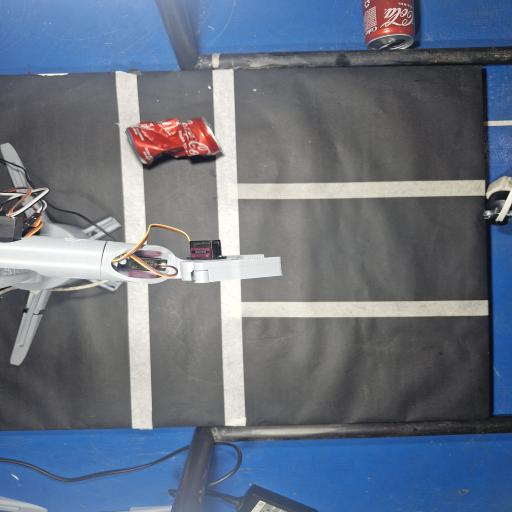lata_defectuoso: (126, 118, 221, 164)
